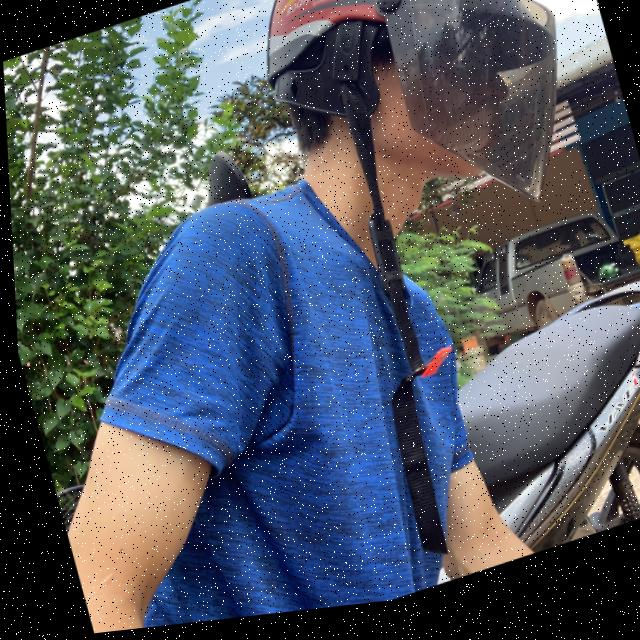illegal_helmet: (234, 0, 640, 596)
